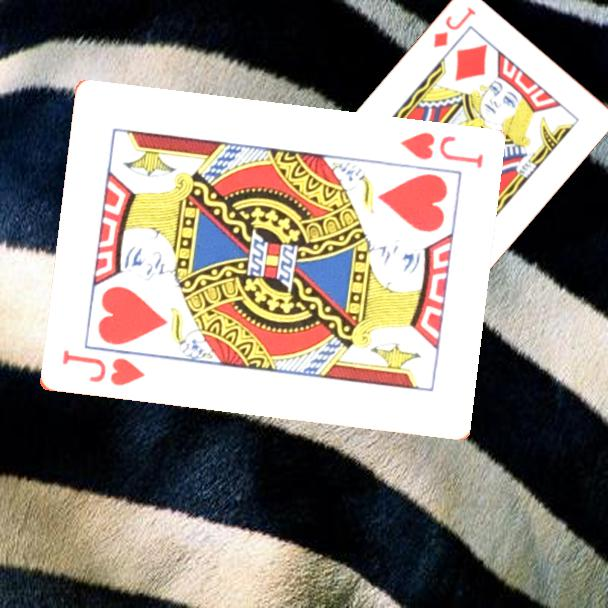d11: (430, 3, 479, 50)
h11: (58, 346, 148, 389), (396, 129, 485, 172)
